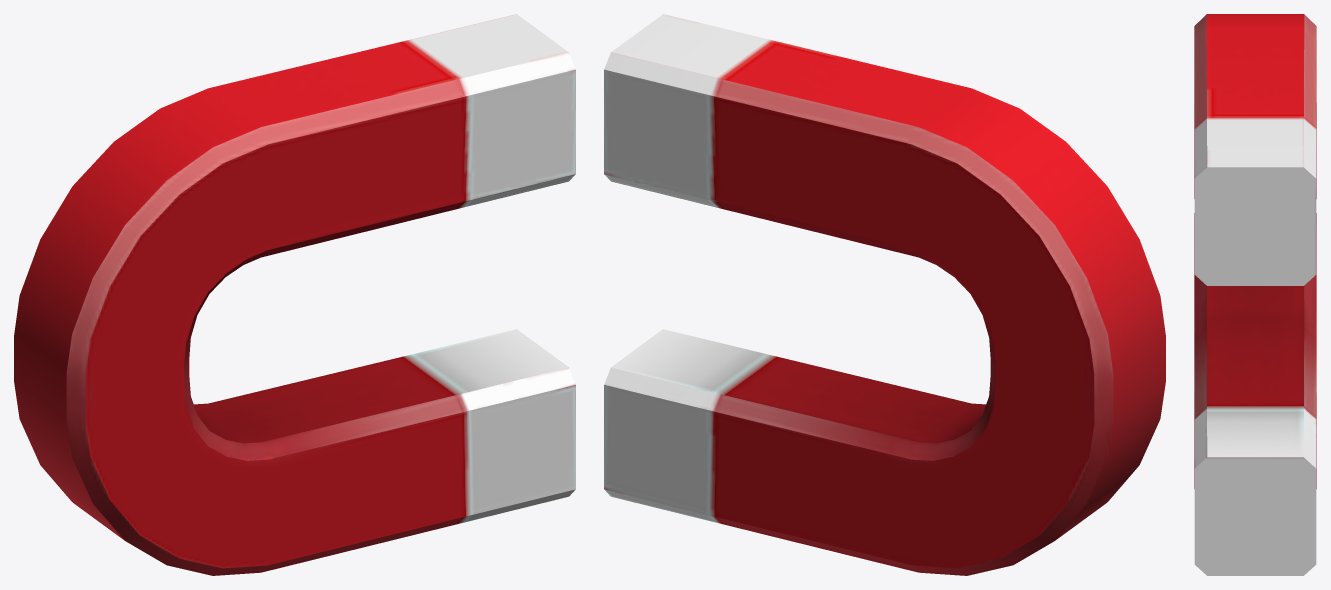
The model's file is Magnet.fbx.
3 views of the same model, side by side, from view 1: azimuth 30°, elevation 25°; view 2: azimuth 150°, elevation 25°; view 3: azimuth 270°, elevation 25° (orthographic). The views are drawn at different scales.
Visible parts, largest first — view 1: Mesh; view 2: Mesh; view 3: Mesh.
Boxes of the visible parts, box(x1,y1,x2,y2) form: Mesh: box(14, 14, 575, 575); Mesh: box(604, 14, 1165, 575); Mesh: box(1194, 14, 1316, 575).
Size of the model in its own units: 120 by 102 by 27.55.
